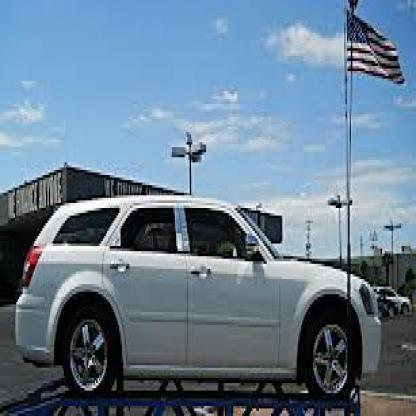Vehicle: (18, 188, 389, 400)
